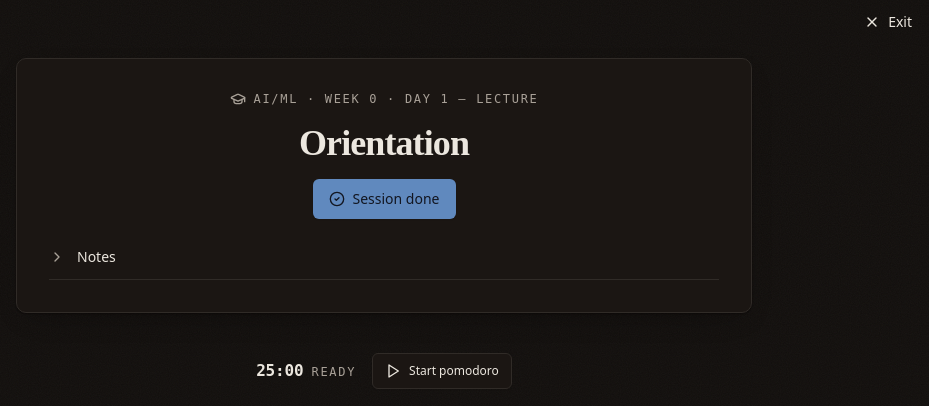
Test: FocusPage: course-session source (no DSA work left) › shows the next course session, and one session done is the day done — it does not roll straight into the next
Expected: the heading "Orientation" is shown, [299,123,469,163]
Expected: the text "AI/ML · Week 0 · Day 1 — Lecture" is shown, [254,91,538,107]
Click the button "Session done": {"x": 384, "y": 199} [312,179,456,219]
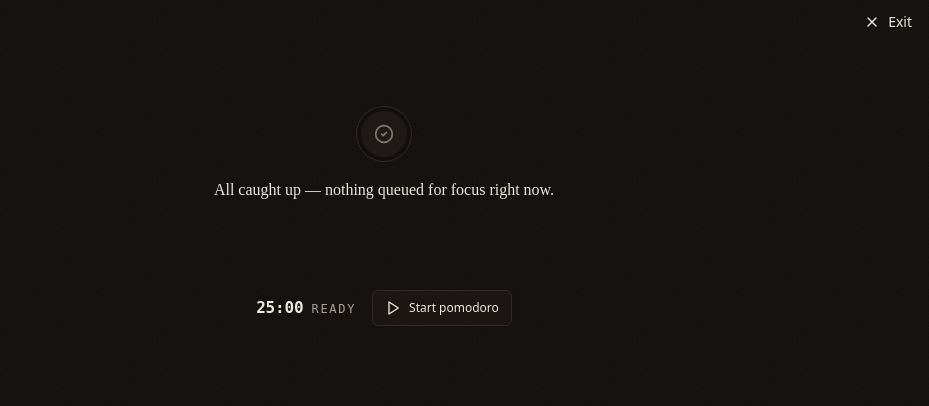
Now the button "Session done" is gone
